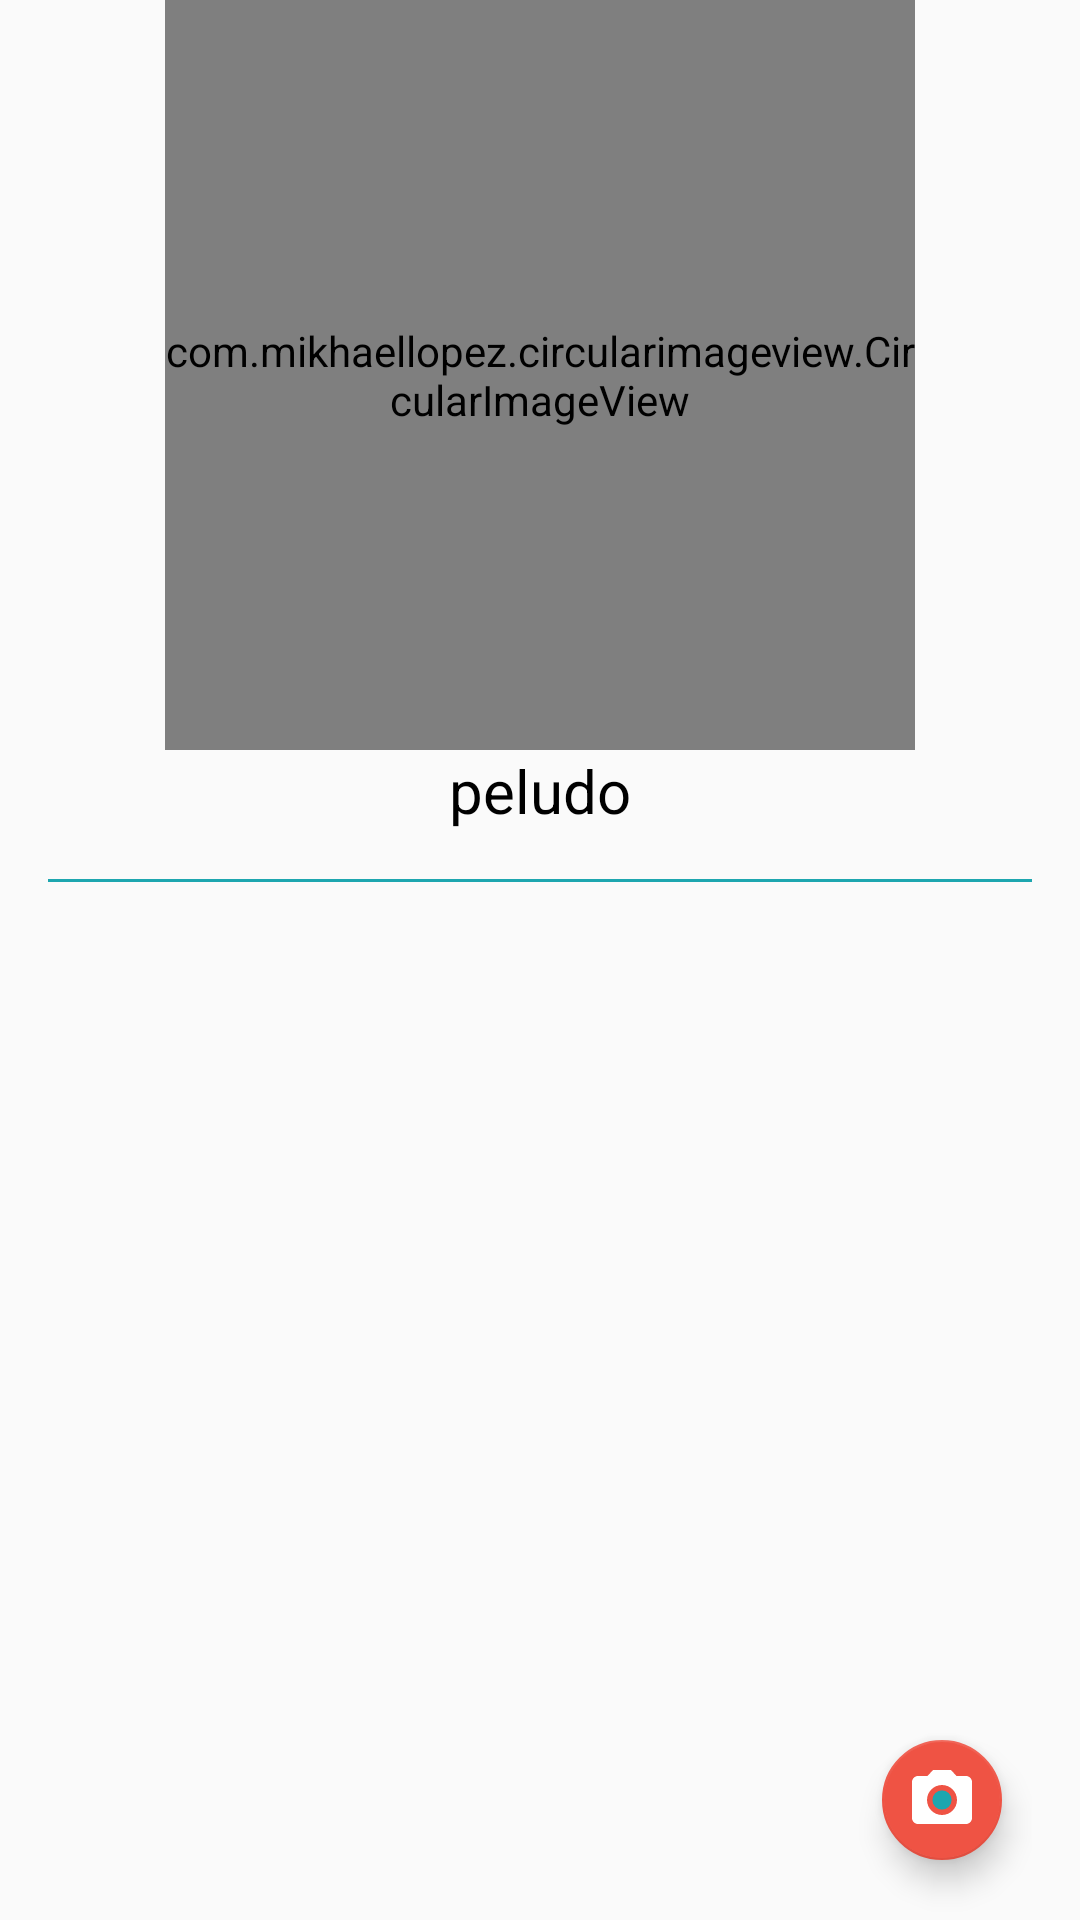

Where icons sit on this 1080px×1920px app screen, as {"left": x1, "top": y1, "right": x2, "bottom": y2}:
camera: {"left": 882, "top": 1740, "right": 1002, "bottom": 1860}
